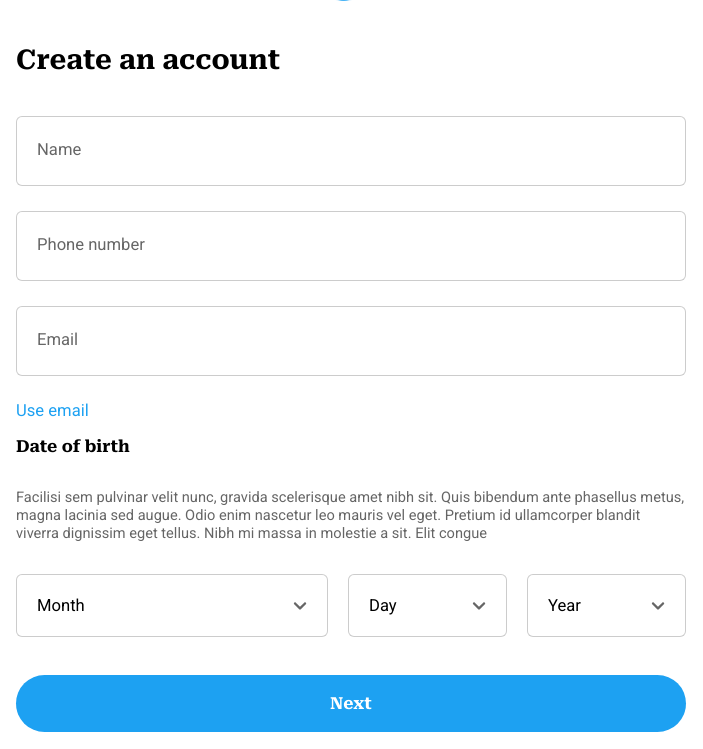
Scenario: Signup page › should show errors on invalid values
(page scrolled)
Click the button with test id "next". click: (351,704)
box: [16,675,686,732]
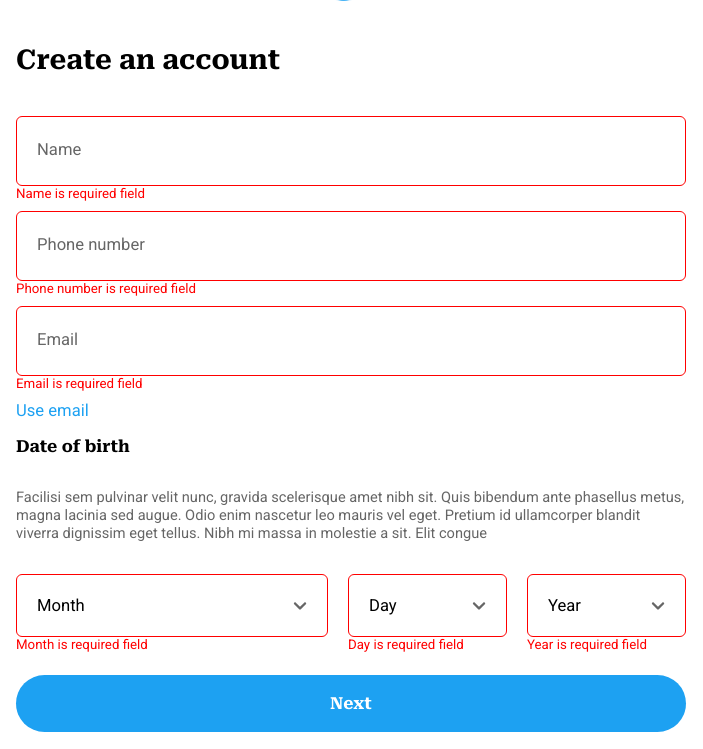
Check: the text "Name is required field" is shown, box [16,186,145,201]
Check: the text "Phone number is required field" is shown, box [16,281,196,296]
Check: the text "Email is required field" is shown, box [16,376,143,391]
